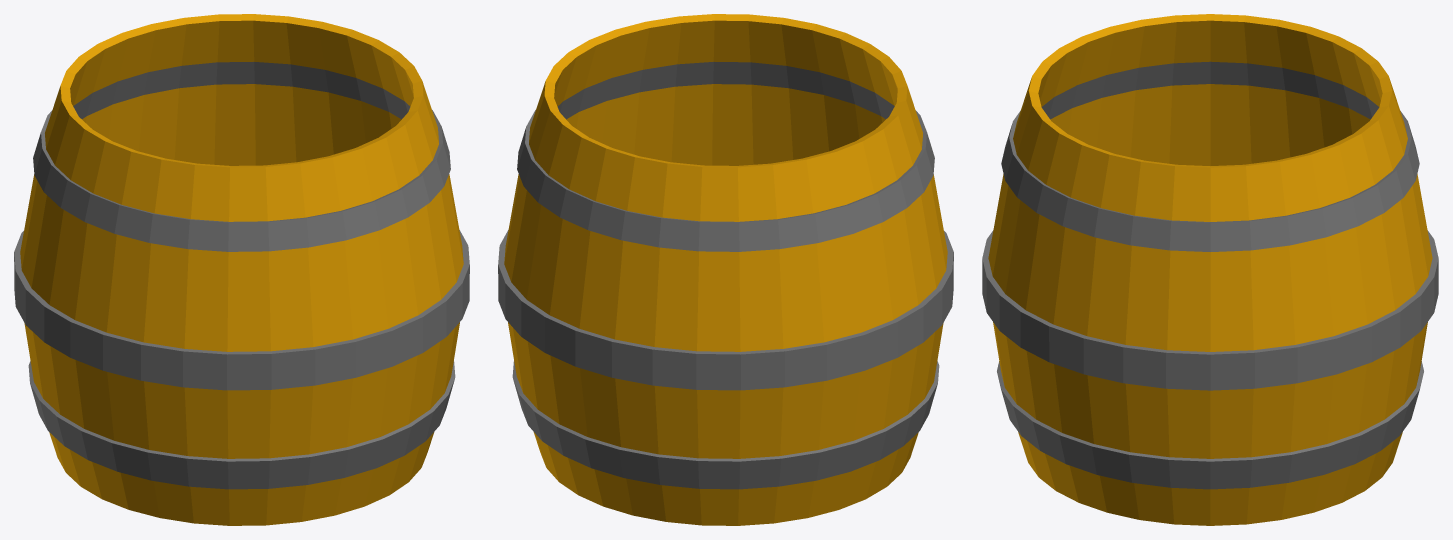
Rendered from tynnyri.fbx.
3 views of the same model, side by side, from view 1: azimuth 30°, elevation 25°; view 2: azimuth 150°, elevation 25°; view 3: azimuth 270°, elevation 25° (orthographic).
Visible parts, largest first — view 1: Circle; view 2: Circle; view 3: Circle.
Part boxes in pixels (<box>): Circle: <box>14,14,469,525</box>; Circle: <box>498,14,953,525</box>; Circle: <box>982,14,1438,525</box>.
Bounding box in the file's own units: 227 × 196 × 227.
